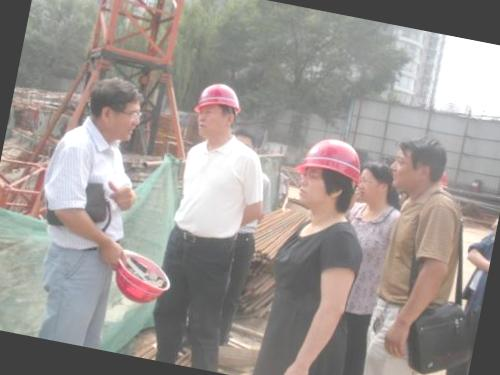no_helmet: (81, 74, 149, 146), (391, 129, 454, 203), (352, 156, 398, 214)
